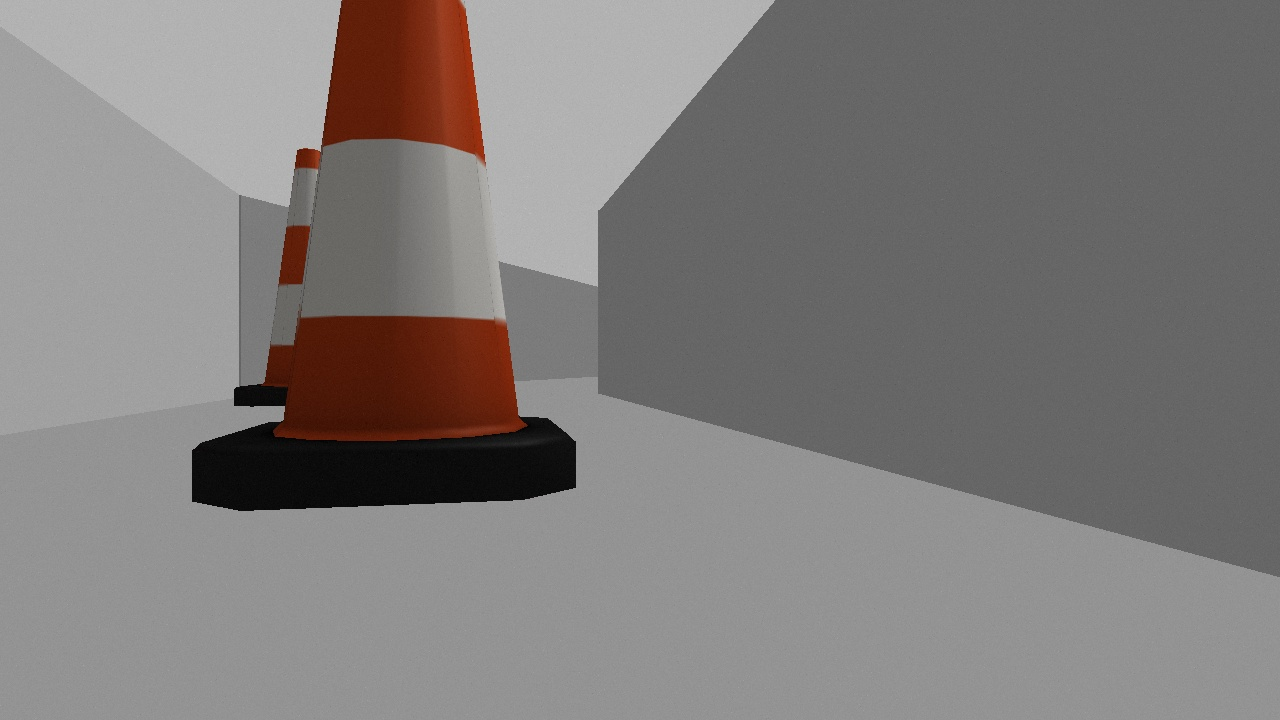barricade: (174, 1, 598, 517), (221, 139, 371, 411)
